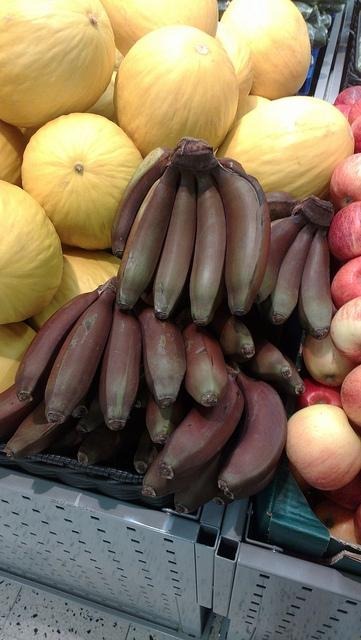apple: (286, 404, 360, 492), (302, 329, 361, 386), (312, 498, 358, 544), (328, 200, 361, 264), (330, 296, 360, 364), (330, 153, 361, 210), (318, 472, 361, 511), (330, 257, 361, 311), (300, 378, 344, 409), (340, 364, 361, 426), (288, 459, 316, 492), (334, 86, 361, 106), (350, 115, 361, 154), (348, 99, 360, 127), (334, 104, 353, 120), (354, 504, 361, 544)
